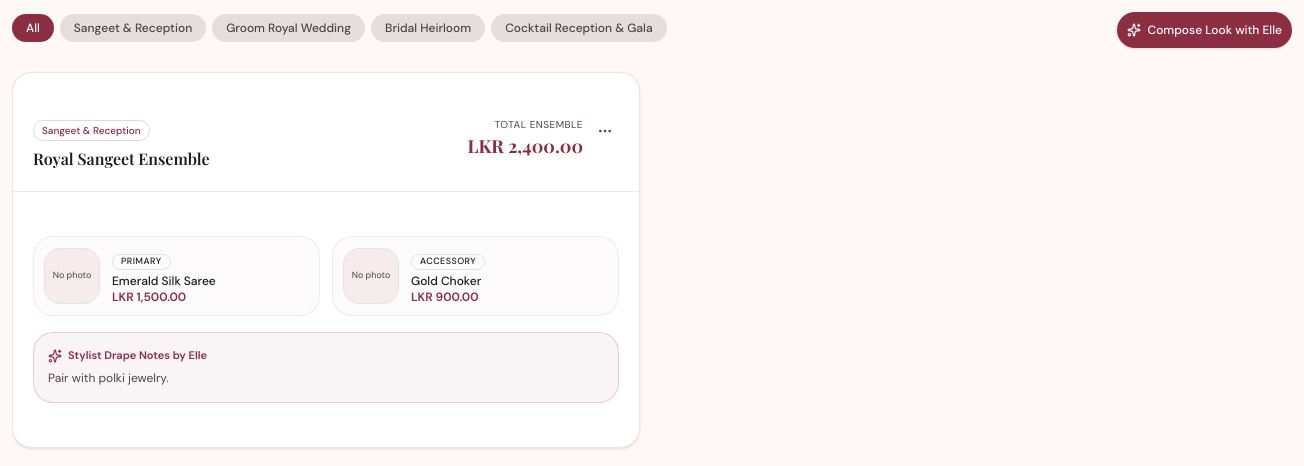
Test: LookbooksTab CRUD › offers the empty state when the occasion filter matches nothing
Click the button "Bridal Heirloom". click: (428, 28)
box: [371,14,485,42]
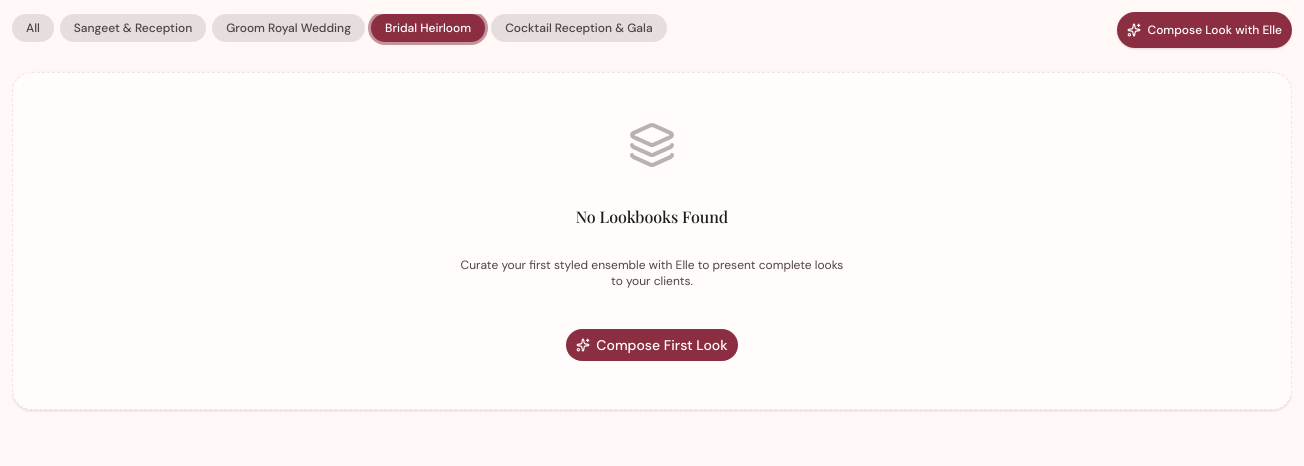
Result: the heading "No Lookbooks Found" is shown at [576,205,728,229]
